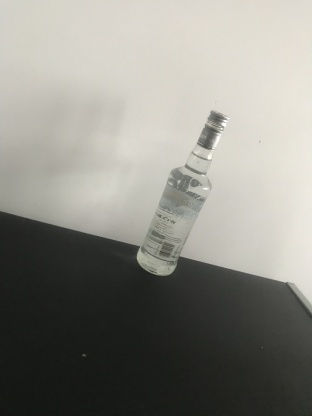nakretka: (195, 107, 231, 150)
